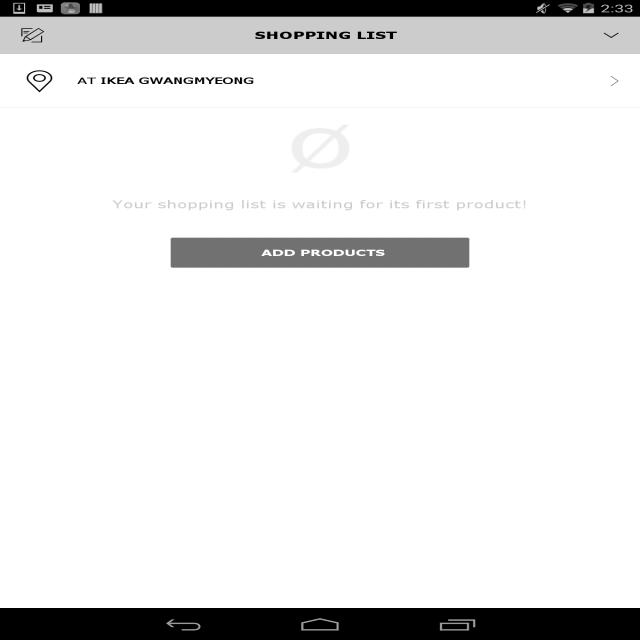Button: (171, 238, 469, 268)
EditText: (53, 17, 640, 54)
ImageView: (280, 124, 360, 174), (6, 17, 56, 54), (17, 68, 60, 94), (17, 25, 51, 46), (599, 28, 623, 43), (610, 68, 619, 94), (610, 73, 619, 84), (610, 172, 619, 183), (610, 221, 619, 232), (610, 320, 619, 331), (610, 369, 619, 380), (610, 468, 619, 479), (610, 517, 619, 528), (610, 123, 619, 133), (610, 271, 619, 281), (610, 419, 619, 429), (610, 567, 619, 577)
TextView: (67, 17, 584, 54), (64, 17, 576, 54), (27, 197, 613, 212), (21, 122, 594, 134), (21, 270, 594, 282), (21, 418, 594, 430), (21, 566, 594, 578), (21, 73, 594, 84), (21, 172, 594, 183), (21, 221, 594, 232), (21, 320, 594, 331), (21, 369, 594, 380), (21, 468, 594, 479), (21, 517, 594, 528), (77, 75, 594, 86)
